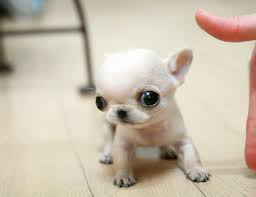chihuahua: (95, 47, 211, 187)
